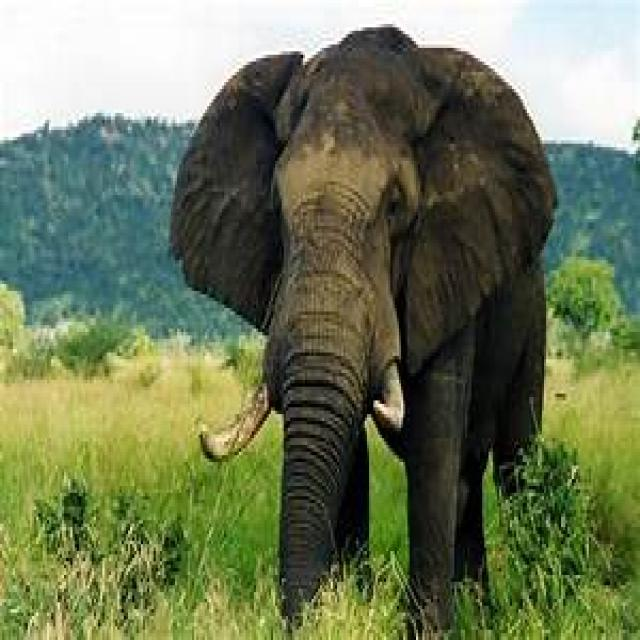elephant: (171, 27, 559, 640)
